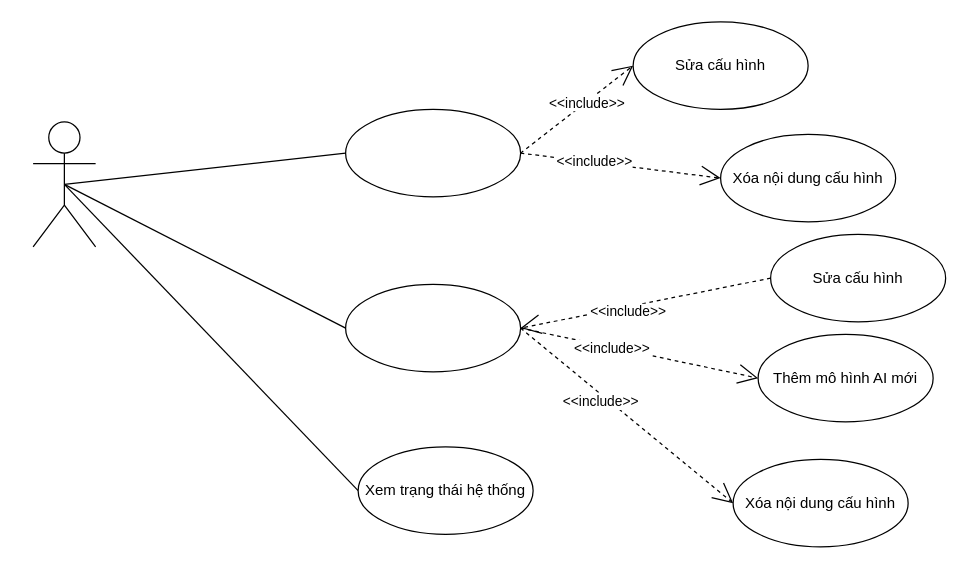
Image size: 968x569. Some labels were removed from this diagram. The box of each missing label's shape, as (x1, y1, x2, y2) in pixels:
Quản trị viên: (32, 121, 96, 247)
Xem cấu hình hệ thống AI: (344, 283, 521, 372)
Xem cấu hình hệ thống Server: (344, 108, 521, 197)
